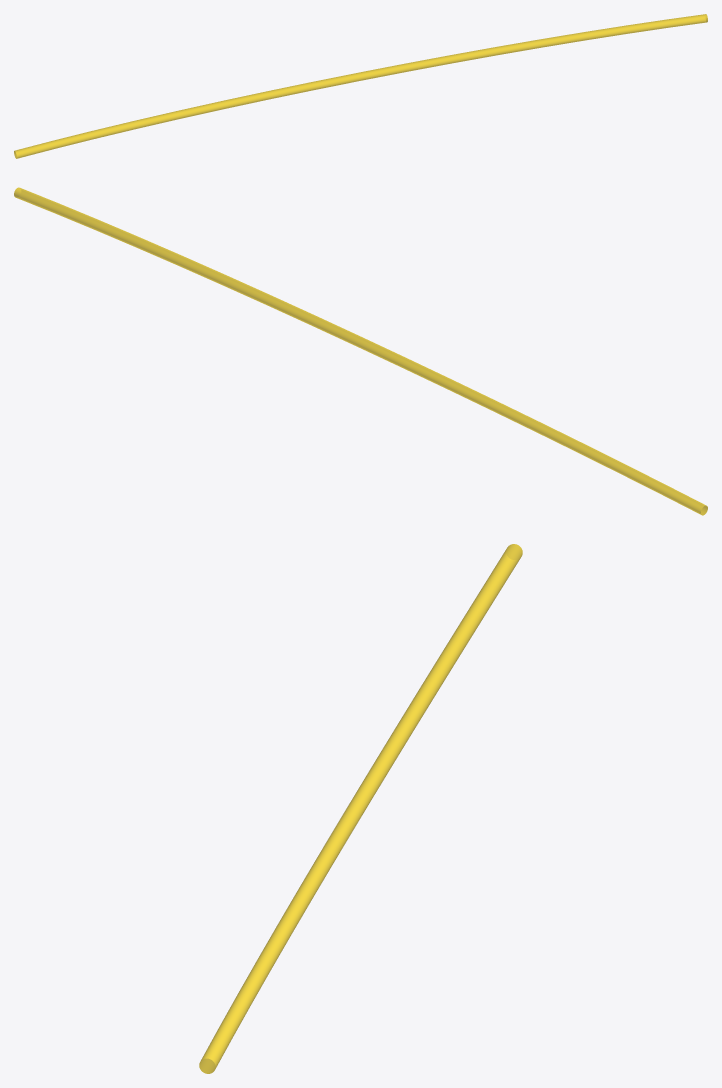
The model's file is Event_75125125_track_111.fbx.
The picture shows the model from 3 angles, top to bottom: view 1: azimuth 30°, elevation 25°; view 2: azimuth 150°, elevation 25°; view 3: azimuth 270°, elevation 25°; orthographic projection. The views are drawn at different scales.
Parts seen in each view (by area): view 1: Model; view 2: Model; view 3: Model.
Boxes of the visible parts, bbox=[...] form: Model: bbox=[14, 14, 707, 158]; Model: bbox=[14, 187, 707, 515]; Model: bbox=[199, 544, 522, 1073].
Bounding box in the file's own units: 3.35 × 0.2622 × 0.7615.
